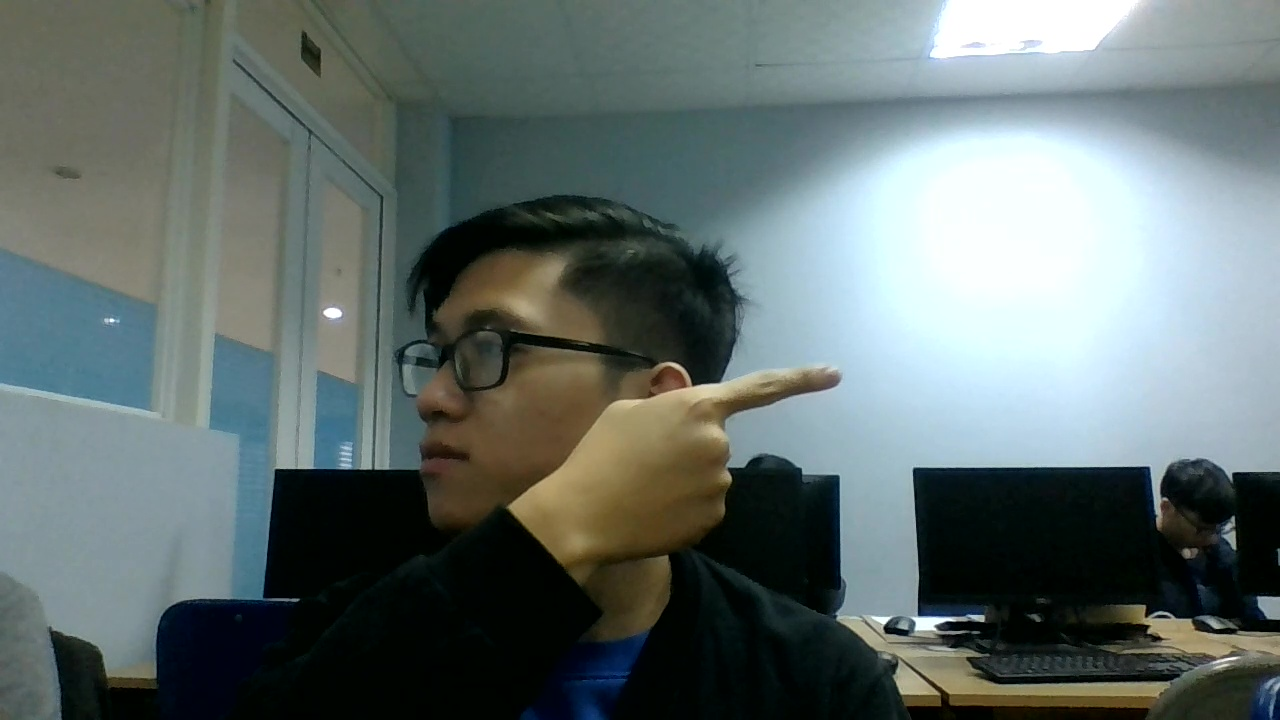left: (557, 360, 846, 575)
